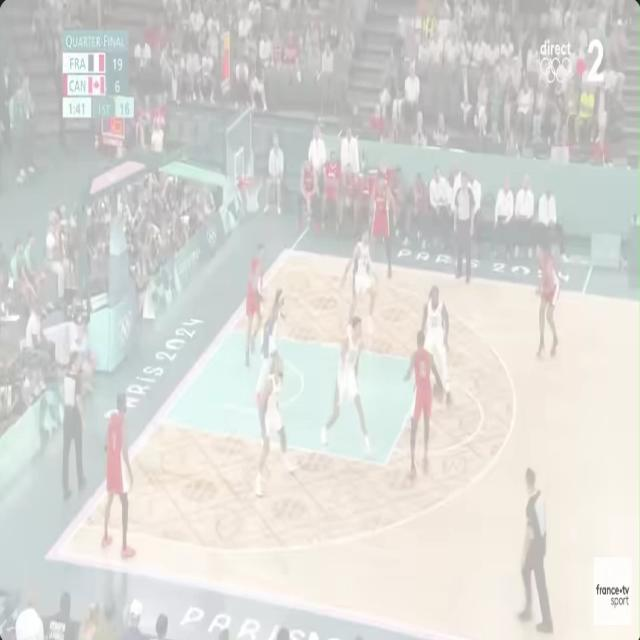ball_handler: (406, 329, 444, 483)
